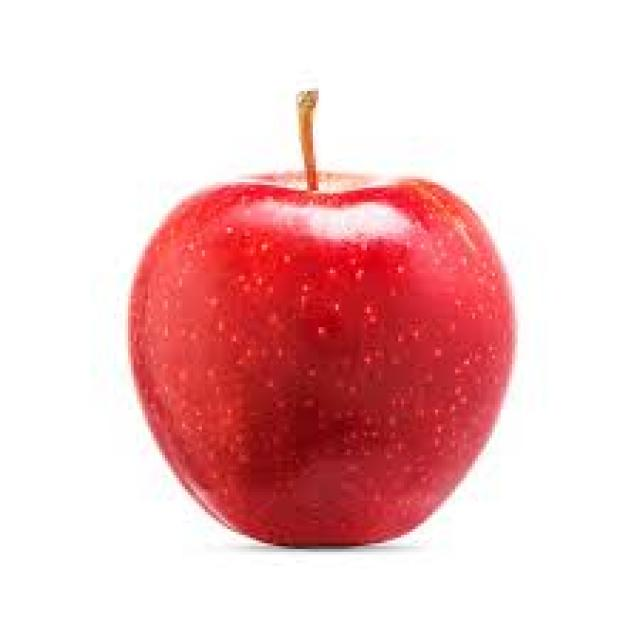apple: (127, 105, 527, 569)
